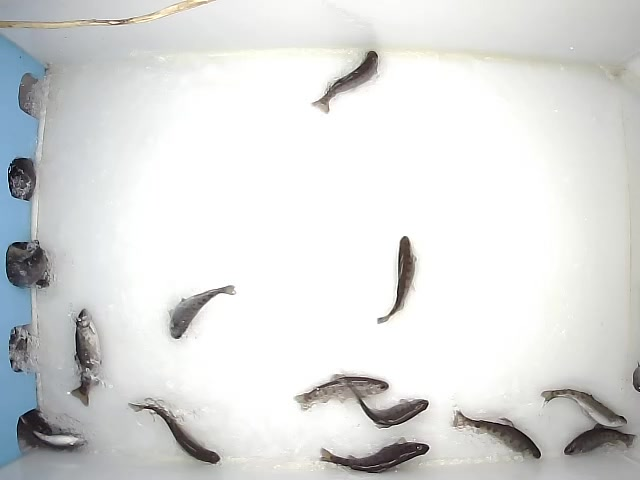fish: (125, 397, 221, 465), (450, 406, 542, 459), (341, 376, 430, 429), (308, 49, 379, 114), (317, 435, 429, 475), (167, 280, 236, 341), (292, 371, 390, 412), (374, 234, 418, 324), (539, 388, 628, 428), (68, 307, 101, 407), (562, 421, 637, 456), (19, 415, 88, 451)
